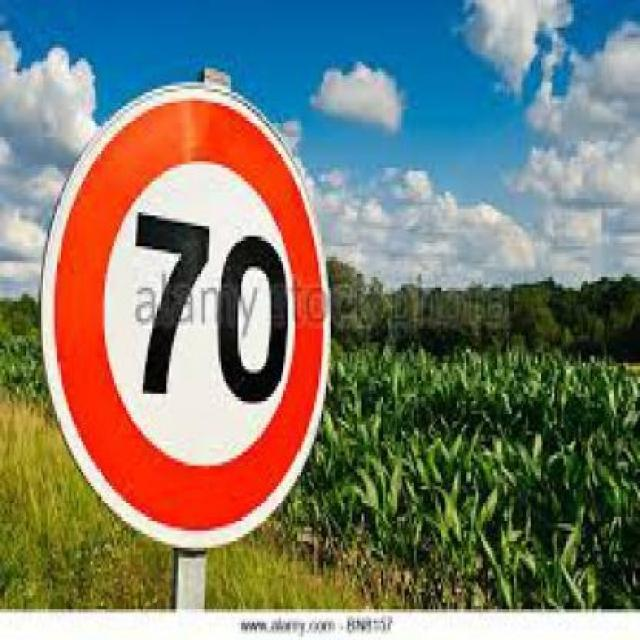forb_speed_over_70: (47, 95, 333, 548)
